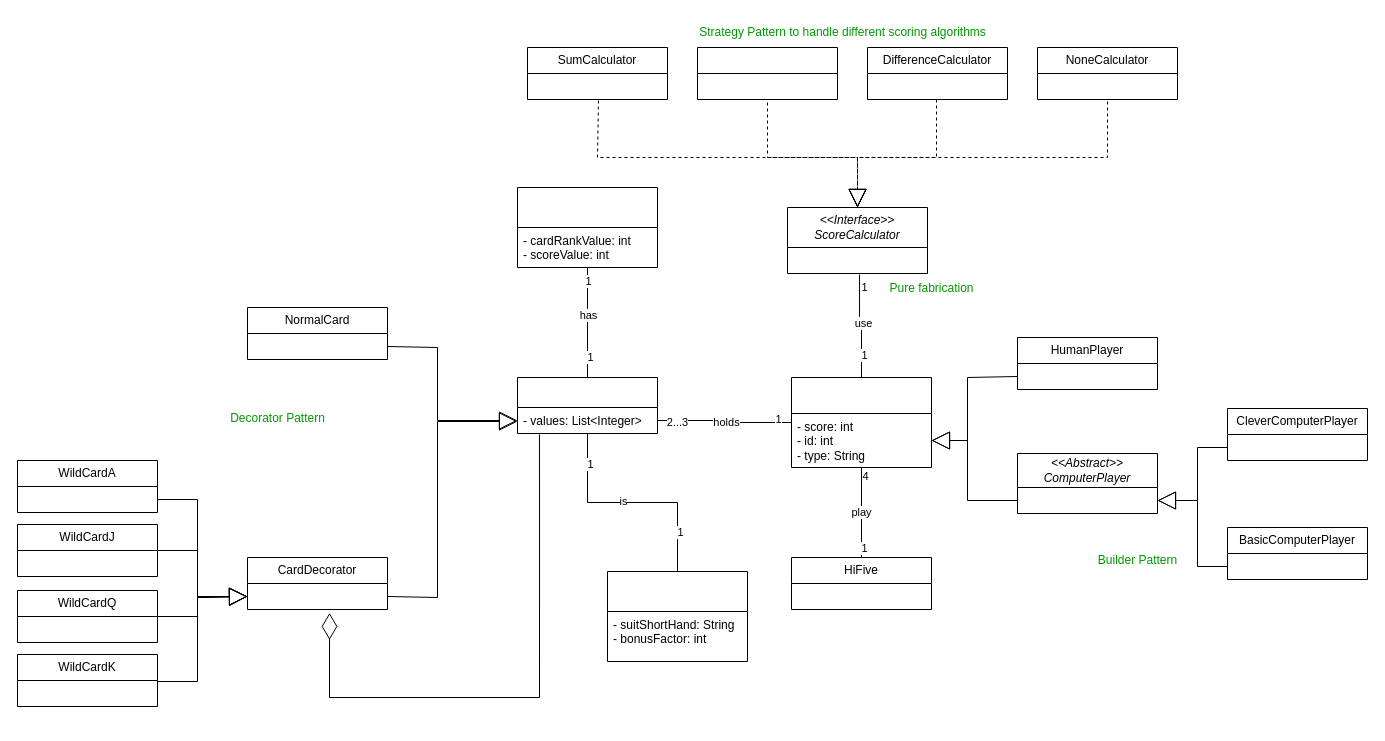
Image size: 1385x741. Some labels were removed from this diagram. The shapes that lost their labels are listed below. From the top down, each one's box as (x1, y1, x2, y2) in pixels, then its label:
(696, 46, 838, 100): FiveCalculator
(516, 186, 658, 268): <<ENUM>> Rank
(516, 376, 658, 434): <<Abstract>> Card
(790, 376, 932, 468): <<Abstract>> Player
(606, 570, 748, 662): <<ENUM>> Suit
